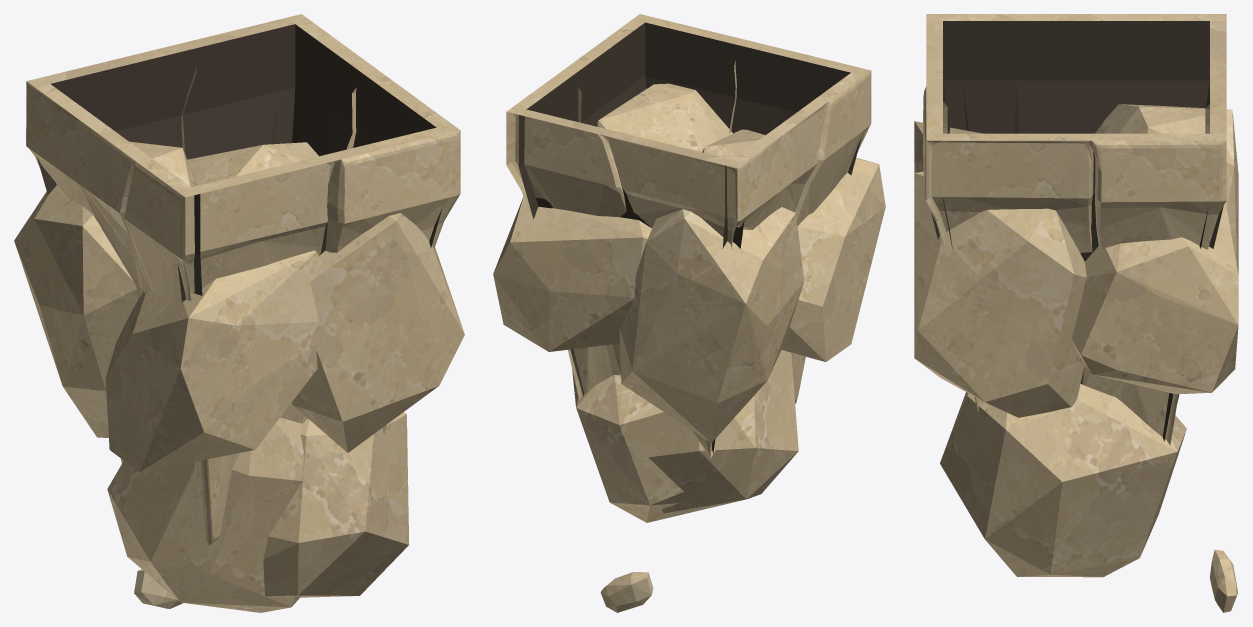
File: ground_bottom_square_island_07.glb
3 renders of one model, left to right at view 1: azimuth 30°, elevation 25°; view 2: azimuth 150°, elevation 25°; view 3: azimuth 270°, elevation 25°, orthographic. The views are drawn at different scales.
Parts seen in each view (by area): view 1: GroundBottomSquareIsland07_Body; view 2: GroundBottomSquareIsland07_Body; view 3: GroundBottomSquareIsland07_Body.
Part boxes in pixels (bbox=[...]): GroundBottomSquareIsland07_Body: bbox=[14, 14, 464, 612]; GroundBottomSquareIsland07_Body: bbox=[493, 14, 885, 612]; GroundBottomSquareIsland07_Body: bbox=[914, 14, 1238, 612].
Bounding box in the file's own units: 1.08 × 1.95 × 1.08.
16 materials, 15 textured.
